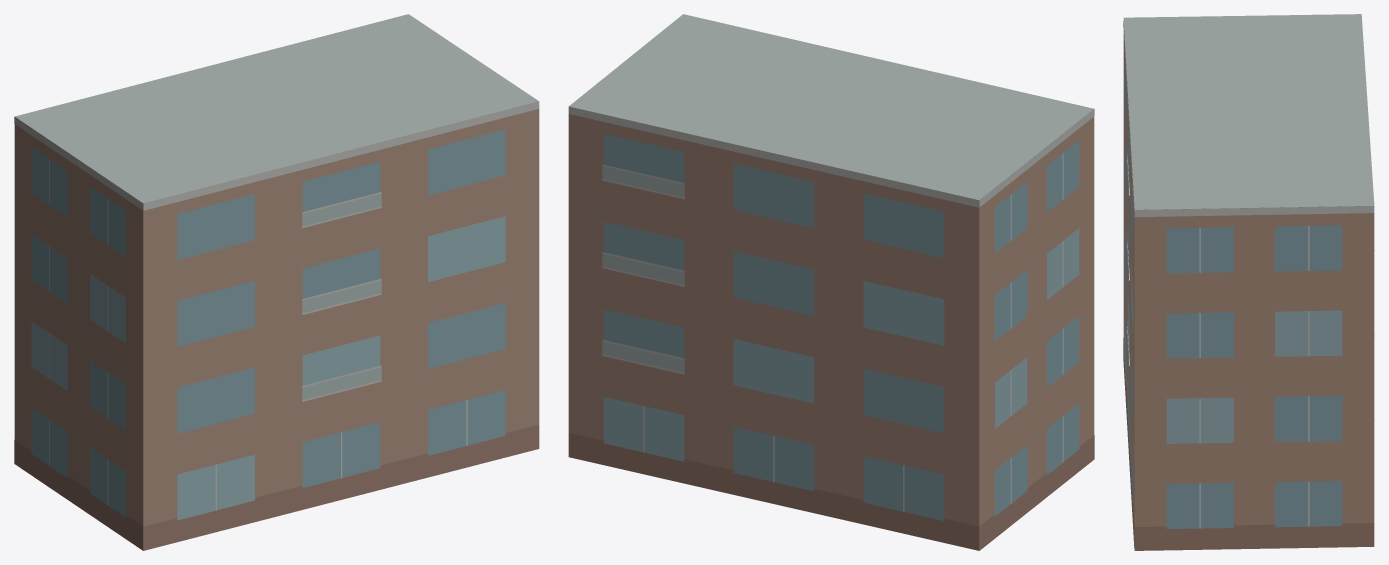
Rendered from survey-upis-33007681.glb.
The picture shows the model from 3 angles, left to right: view 1: azimuth 30°, elevation 25°; view 2: azimuth 150°, elevation 25°; view 3: azimuth 270°, elevation 25°; orthographic projection. The views are drawn at different scales.
Visible parts, largest first — view 1: survey-upis-33007681.tmp; view 2: survey-upis-33007681.tmp; view 3: survey-upis-33007681.tmp.
Part boxes in pixels (x1,y1,x2,y2): survey-upis-33007681.tmp: (14,14,539,550); survey-upis-33007681.tmp: (568,14,1094,550); survey-upis-33007681.tmp: (1123,14,1374,550).
Size of the model in its own units: 14.18 by 11.5 by 7.68.
